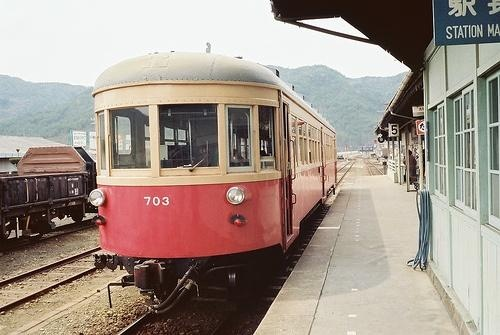train: (93, 51, 339, 304), (1, 149, 89, 239)
